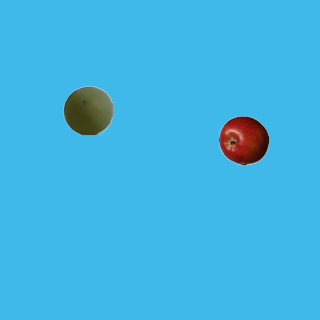Apple Braeburn: (218, 115, 268, 165)
Grape White 4: (62, 85, 112, 135)
